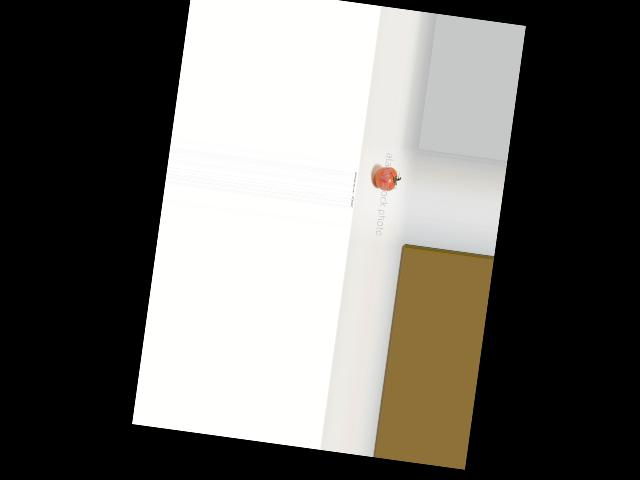tomato: (373, 165, 398, 192)
